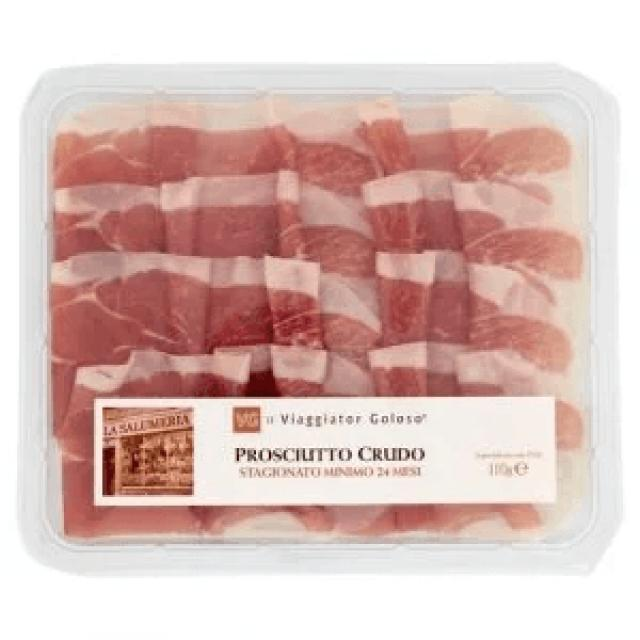ham: (36, 64, 625, 565)
